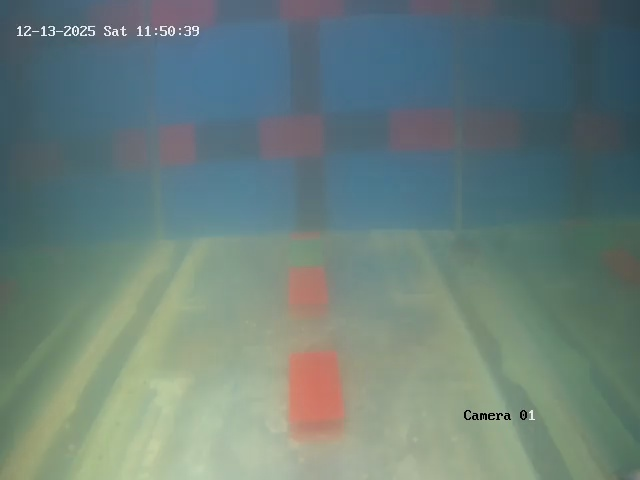fish: (427, 229, 492, 285)
